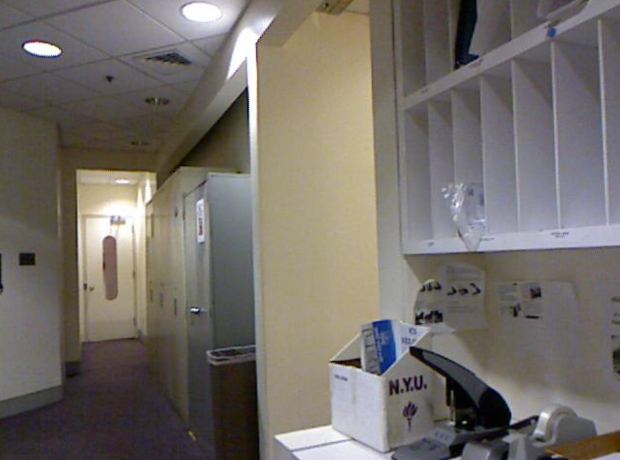cabinet: (405, 0, 620, 254)
door: (84, 222, 132, 336)
